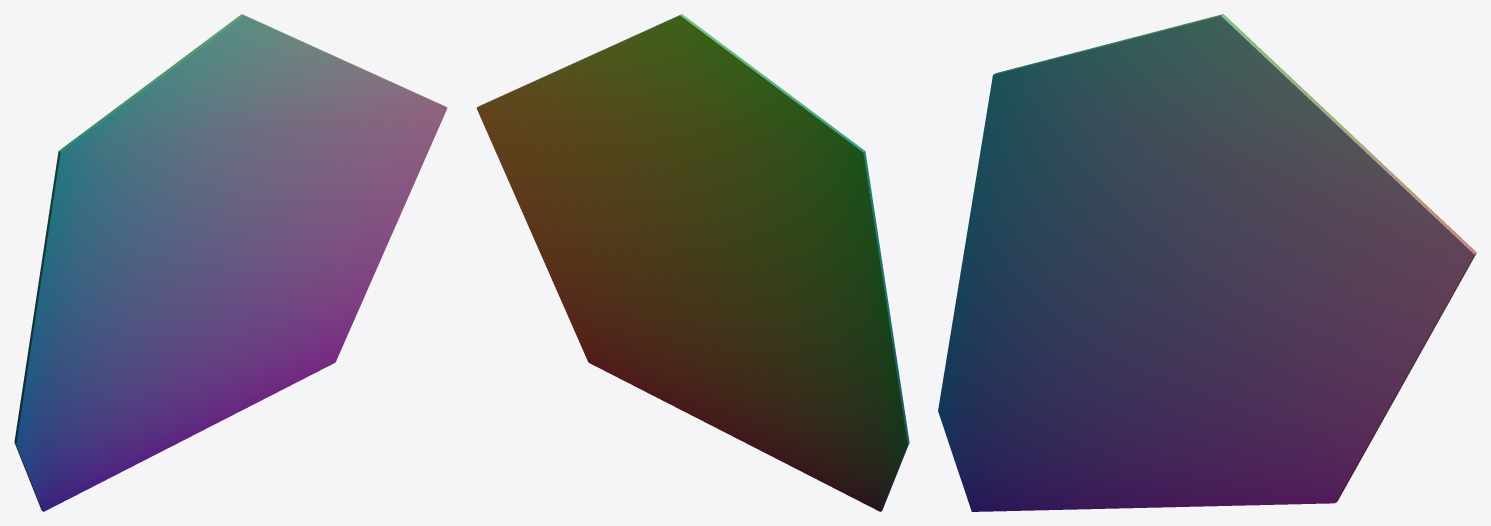
Rendered from zeometry-flat-shapes-flat-polygon_v5.glb.
3 views of the same model, side by side, from view 1: azimuth 30°, elevation 25°; view 2: azimuth 150°, elevation 25°; view 3: azimuth 330°, elevation 25° (orthographic). The views are drawn at different scales.
Visible parts, largest first — view 1: Flat Polygon_v5; view 2: Flat Polygon_v5; view 3: Flat Polygon_v5.
Part boxes in pixels (box(x1,y1,x2,y2)): Flat Polygon_v5: box(14, 14, 447, 511); Flat Polygon_v5: box(476, 14, 909, 511); Flat Polygon_v5: box(938, 14, 1476, 511).
Bounding box in the file's own units: 0.5 × 0.4961 × 0.00417.
